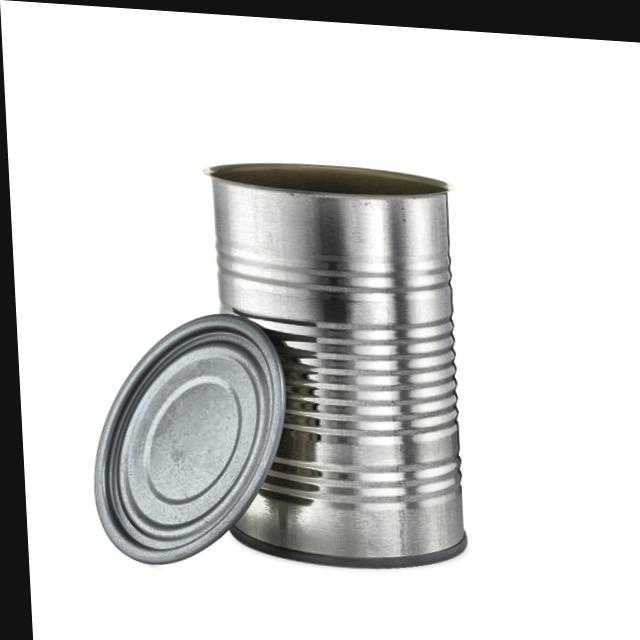can: (198, 133, 475, 572), (68, 291, 293, 577)
